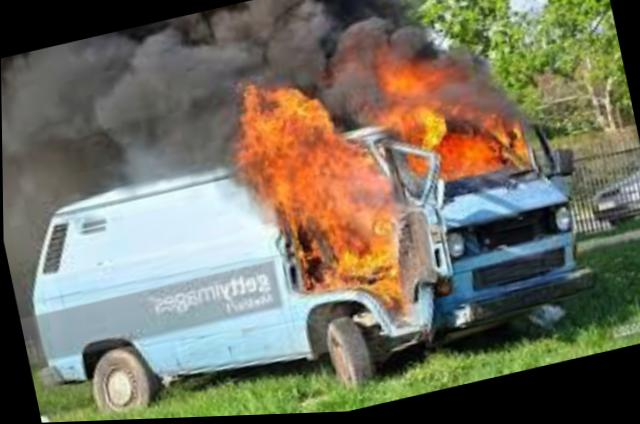fire: (225, 64, 418, 329), (351, 13, 549, 217)
